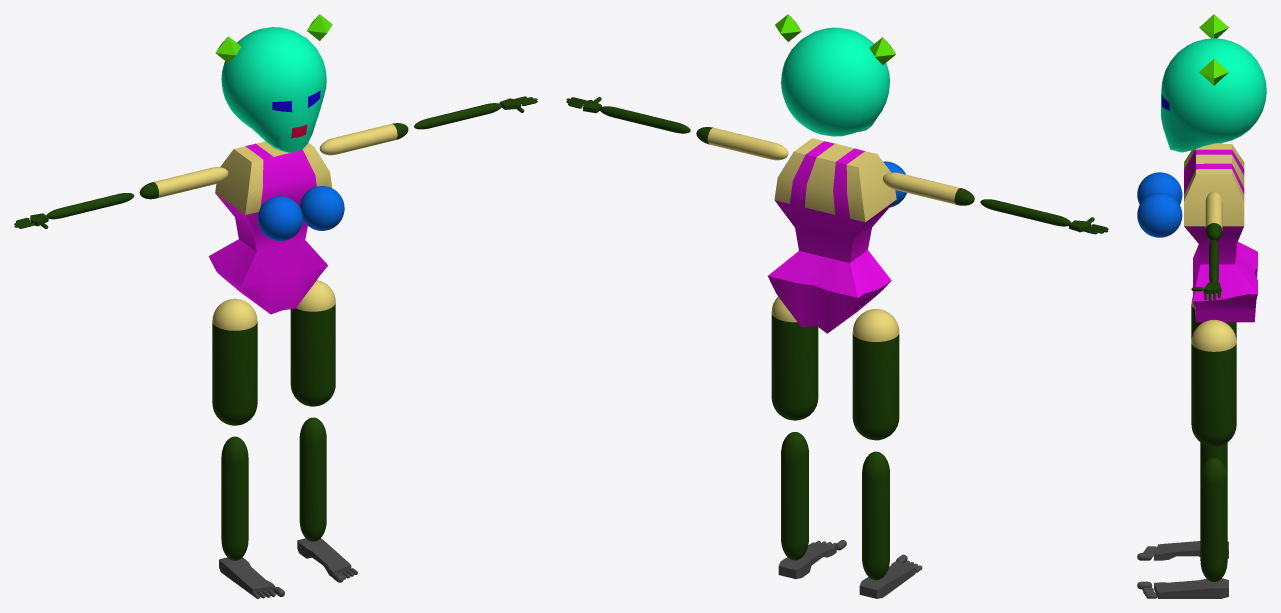
3 views of the same model, side by side, from view 1: azimuth 30°, elevation 25°; view 2: azimuth 150°, elevation 25°; view 3: azimuth 270°, elevation 25° (orthographic). The views are drawn at different scales.
Parts seen in each view (by area): view 1: Dauter; view 2: Dauter; view 3: Dauter.
Boxes of the visible parts, left/top/right/bottom form: Dauter: left=14, top=14, right=537, bottom=598; Dauter: left=566, top=14, right=1108, bottom=598; Dauter: left=1137, top=14, right=1266, bottom=598.
Size of the model in its own units: 8.02 by 7.88 by 1.72.
